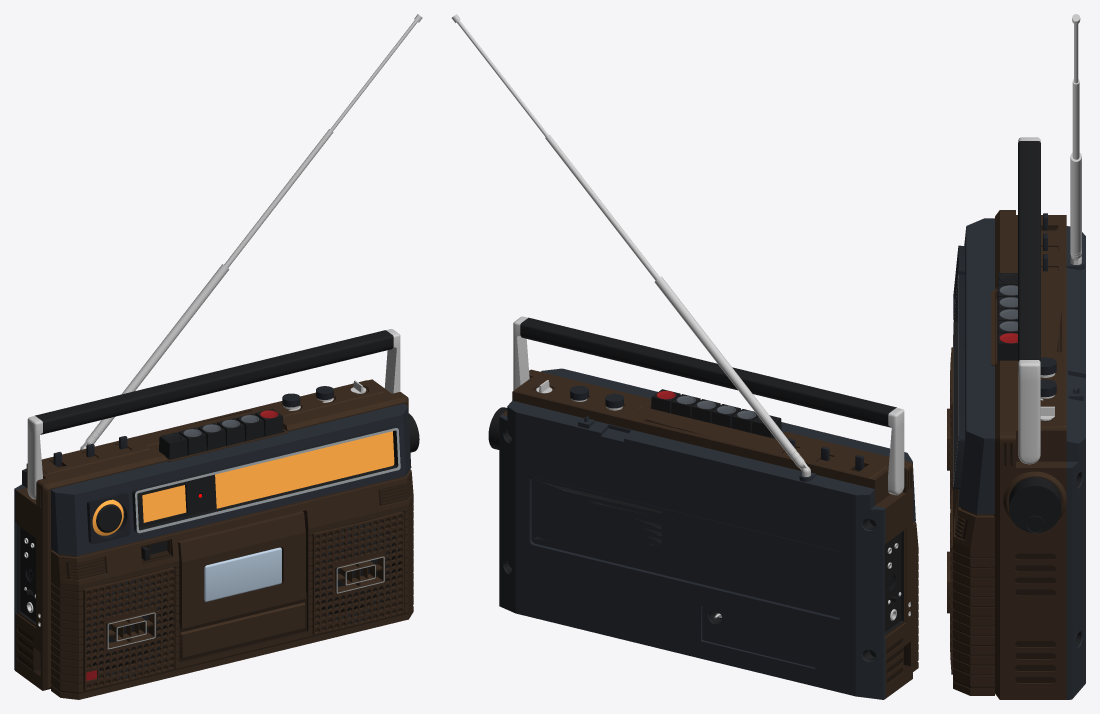
Rendered from boombox.fbx.
3 renders of one model, left to right at view 1: azimuth 30°, elevation 25°; view 2: azimuth 150°, elevation 25°; view 3: azimuth 270°, elevation 25°, orthographic. The views are drawn at different scales.
Visible parts, largest first — view 1: перед.mod, динамик.изгиб, корпус.черный.верх, панель частот, корпус, касетник, ручка, панель, антена, касетник.001, часть динамика, 6 кнопок (+8 smaller); view 2: корпус, ручка, панель, антена, метал ручка, корпус.черный.верх, 6 кнопок, перед.mod, части кнопок, крутилки; view 3: корпус, корпус.черный.верх, перед.mod, ручка, панель, крутилка, метал ручка, антена, панель частот, части кнопок, 6 кнопок, динамик.изгиб (+4 smaller).
Part boxes in pixels (x1=…): перед.mod: x1=51, y1=469, x2=413, y2=699; динамик.изгиб: x1=83, y1=511, x2=403, y2=690; корпус.черный.верх: x1=51, y1=403, x2=411, y2=555; панель частот: x1=132, y1=426, x2=400, y2=533; корпус: x1=14, y1=379, x2=408, y2=690; касетник: x1=178, y1=511, x2=305, y2=628; ручка: x1=35, y1=330, x2=393, y2=434; панель: x1=41, y1=380, x2=383, y2=474; антена: x1=80, y1=14, x2=422, y2=449; касетник.001: x1=179, y1=602, x2=305, y2=657; часть динамика: x1=101, y1=555, x2=384, y2=649; 6 кнопок: x1=159, y1=408, x2=283, y2=459; корпус: x1=499, y1=369, x2=912, y2=699; ручка: x1=520, y1=317, x2=896, y2=427; панель: x1=517, y1=380, x2=887, y2=478; антена: x1=451, y1=14, x2=816, y2=481; метал ручка: x1=513, y1=316, x2=904, y2=495; корпус.черный.верх: x1=541, y1=368, x2=915, y2=522; 6 кнопок: x1=651, y1=389, x2=781, y2=438; перед.mod: x1=913, y1=521, x2=918, y2=671; части кнопок: x1=656, y1=391, x2=776, y2=423; крутилки: x1=536, y1=380, x2=623, y2=410; корпус: x1=991, y1=210, x2=1085, y2=699; корпус.черный.верх: x1=958, y1=218, x2=994, y2=514; перед.mod: x1=953, y1=335, x2=994, y2=695; ручка: x1=1018, y1=141, x2=1040, y2=371; панель: x1=1040, y1=216, x2=1066, y2=427; крутилка: x1=1003, y1=471, x2=1066, y2=533; метал ручка: x1=1018, y1=137, x2=1040, y2=464; антена: x1=1066, y1=14, x2=1084, y2=269; панель частот: x1=953, y1=274, x2=964, y2=489; части кнопок: x1=999, y1=273, x2=1017, y2=343; 6 кнопок: x1=997, y1=273, x2=1017, y2=362; динамик.изгиб: x1=950, y1=347, x2=952, y2=674.
Bounding box in the file's own units: 509 × 658 × 117.
